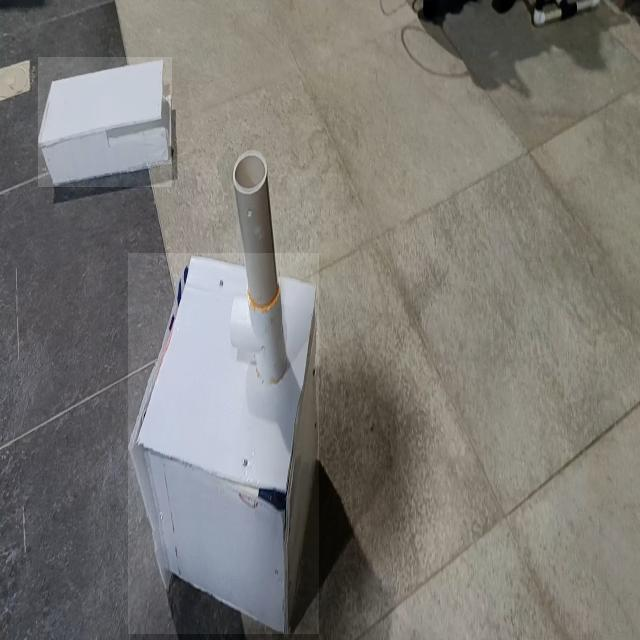Cube: (128, 253, 319, 634)
Cuboid: (38, 57, 172, 187)
